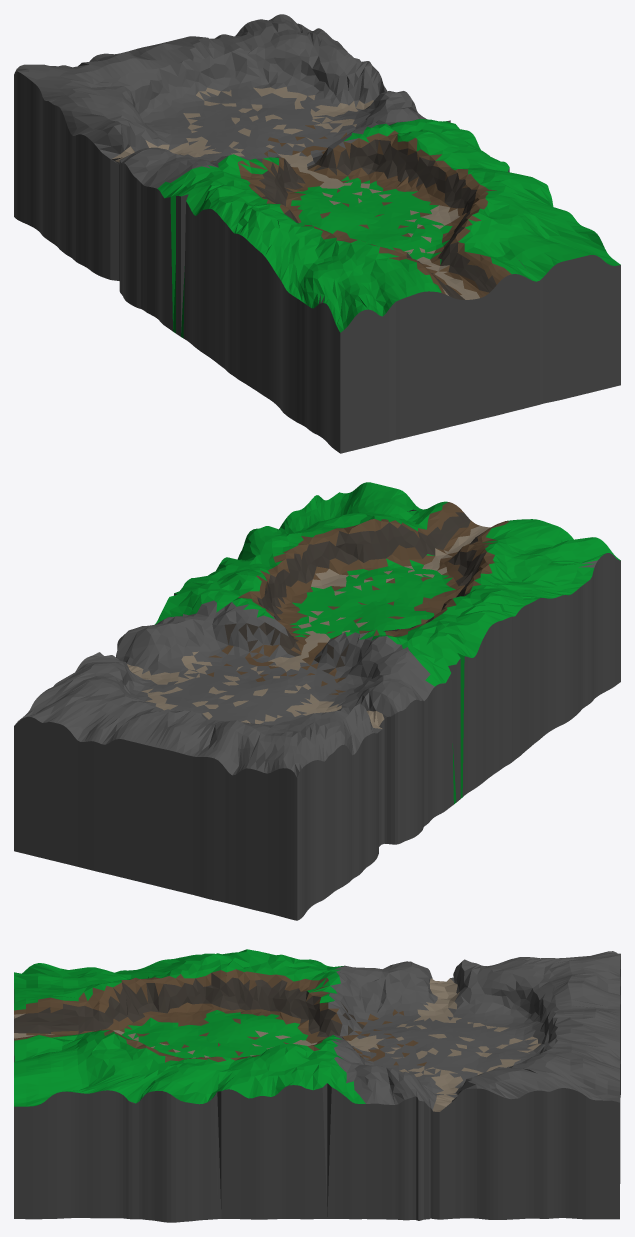
Rendered from landscape02.fbx.
The picture shows the model from 3 angles, top to bottom: view 1: azimuth 30°, elevation 25°; view 2: azimuth 150°, elevation 25°; view 3: azimuth 270°, elevation 25°; orthographic projection. The views are drawn at different scales.
Visible parts, largest first — view 1: landscape02; view 2: landscape02; view 3: landscape02.
Boxes of the visible parts, x1,y1,x2,y2 form: landscape02: (14,14,620,453); landscape02: (14,482,620,920); landscape02: (14,949,620,1222).
Bounding box in the file's own units: 55949 × 28866 × 107325.
